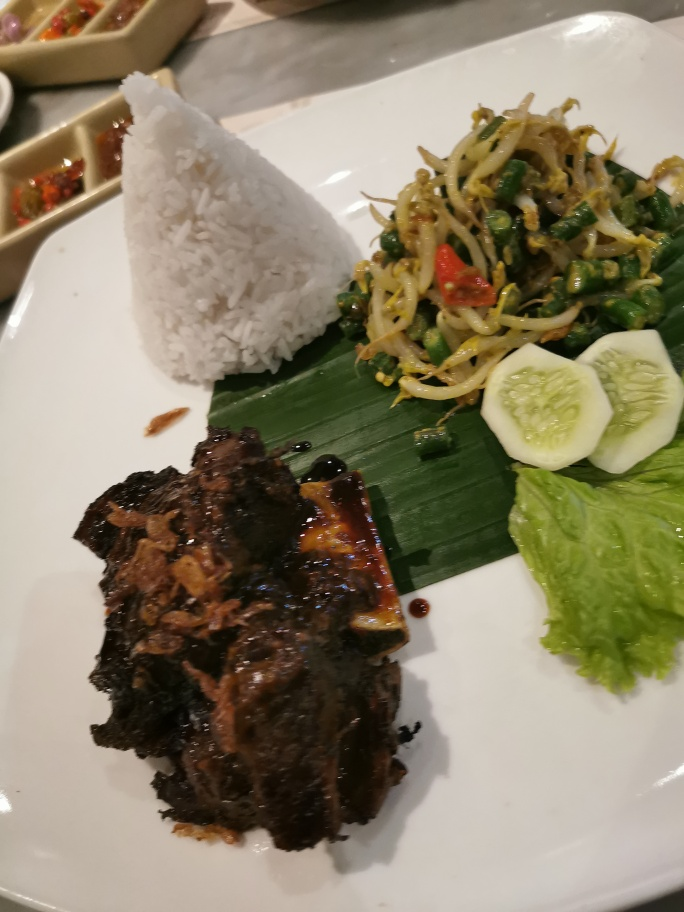iga bakar: (95, 437, 417, 849)
nasi putih: (92, 66, 355, 394)
